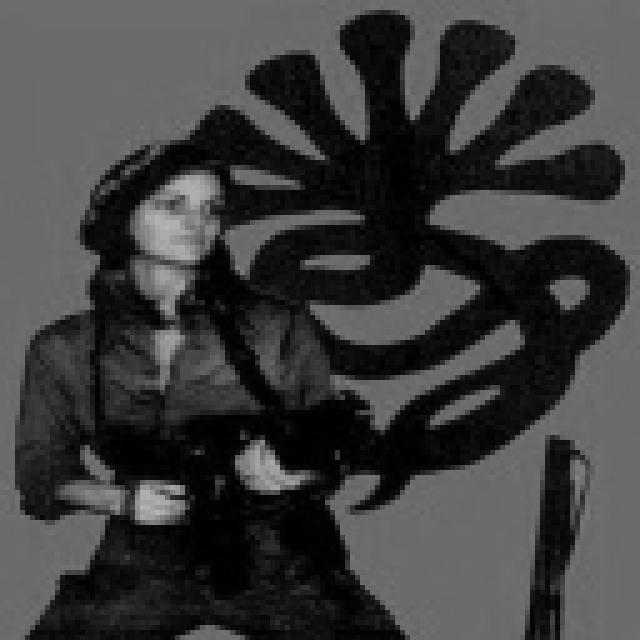Rifle: (40, 382, 416, 588), (507, 410, 607, 640)
